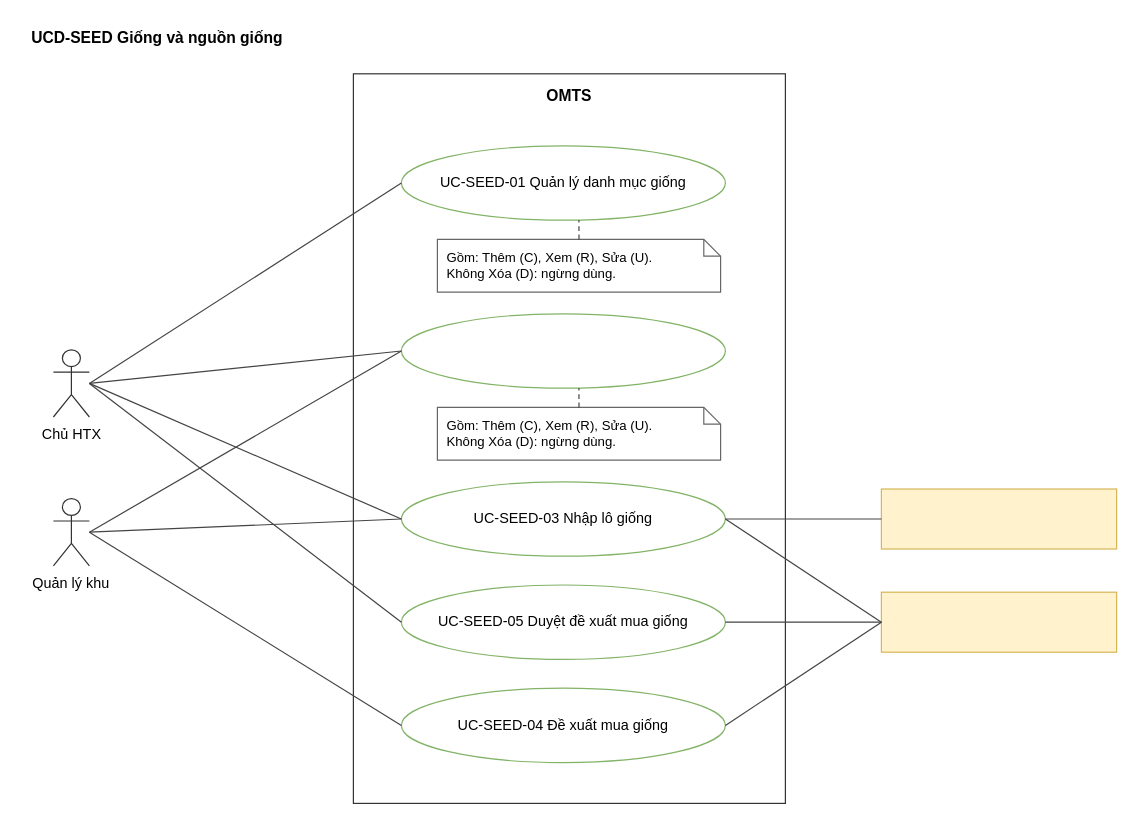
The diagram is 1138 pixels wide and 824 high, and some of its shapes have lost their labels. The shapes that lost their labels are listed below. From the top down, each one's box as (x1, y1, x2, y2) in pixels, then its label:
(400, 313, 725, 388): UC-SEED-02 Quản lý nhà cung cấp giống
(880, 488, 1117, 549): «system» Dịch vụ lưu trữ đám mây
(880, 591, 1117, 652): «system» Dịch vụ thông báo đẩy
